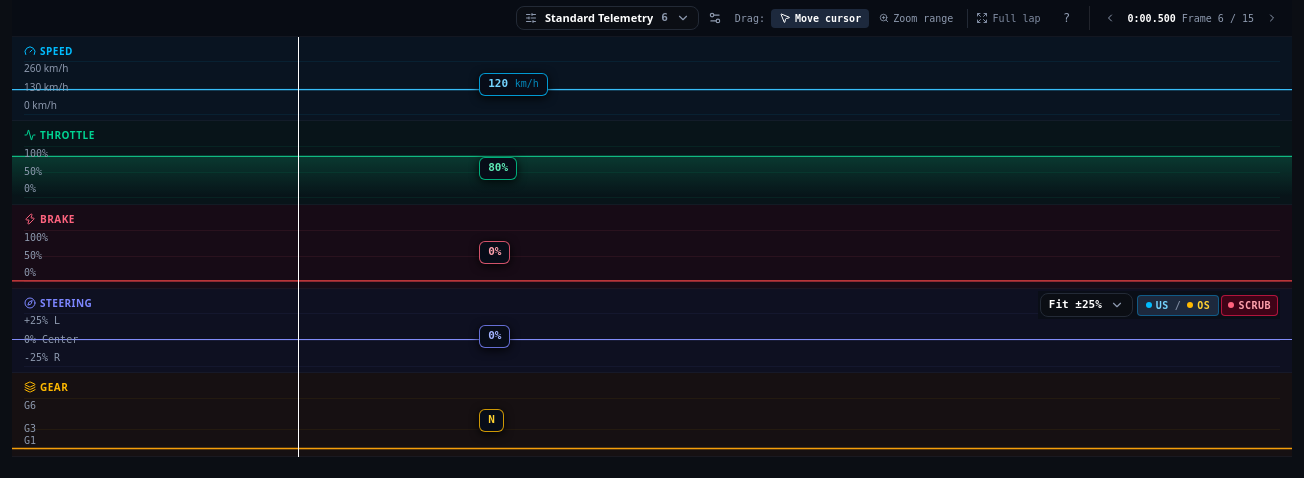
Scenario: TelemetryStripCharts › resets zoom back to whole lap when double-clicking anywhere on the charts
This screenshot has width=1304, height=478.
Press the mouse on the element named "Telemetry charts" at (652, 228), box [12,0,1292,457]
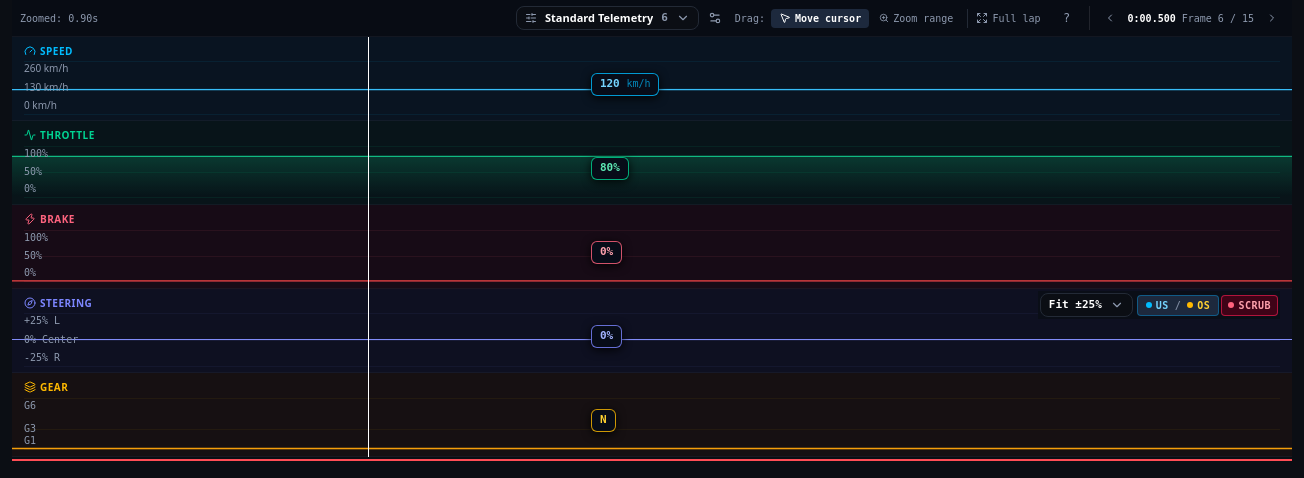
Result: the text "Zoomed: 0.90s" is shown at [20,10,98,26]
Double-click the element named "Telemetry charts" at (652, 228), box [12,0,1292,457]
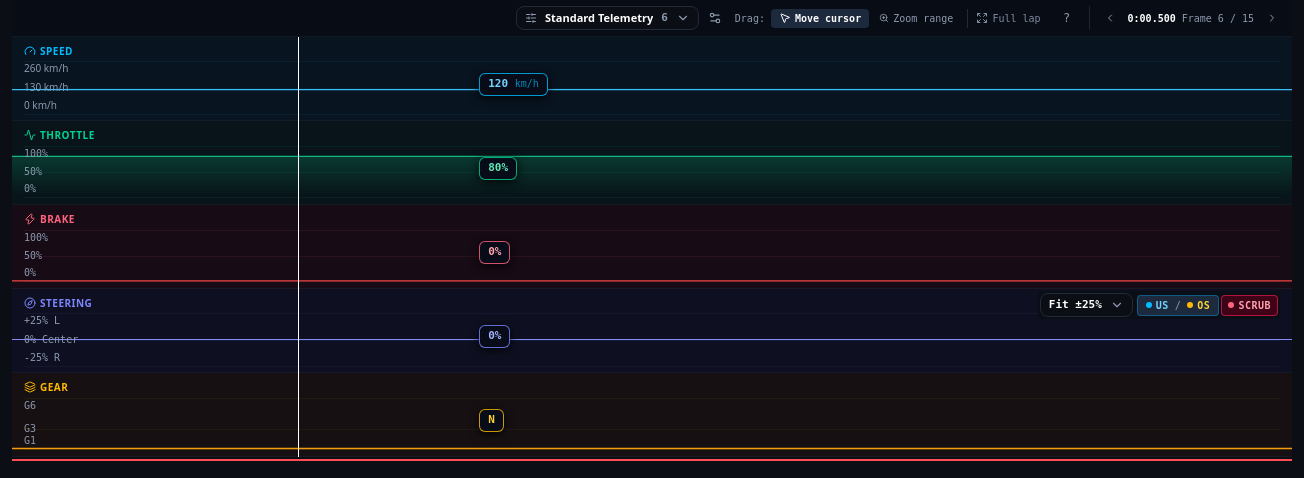
Result: the text "Zoomed:" is gone
